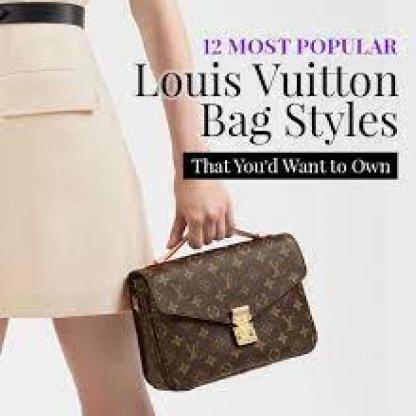bag: (124, 213, 326, 399)
